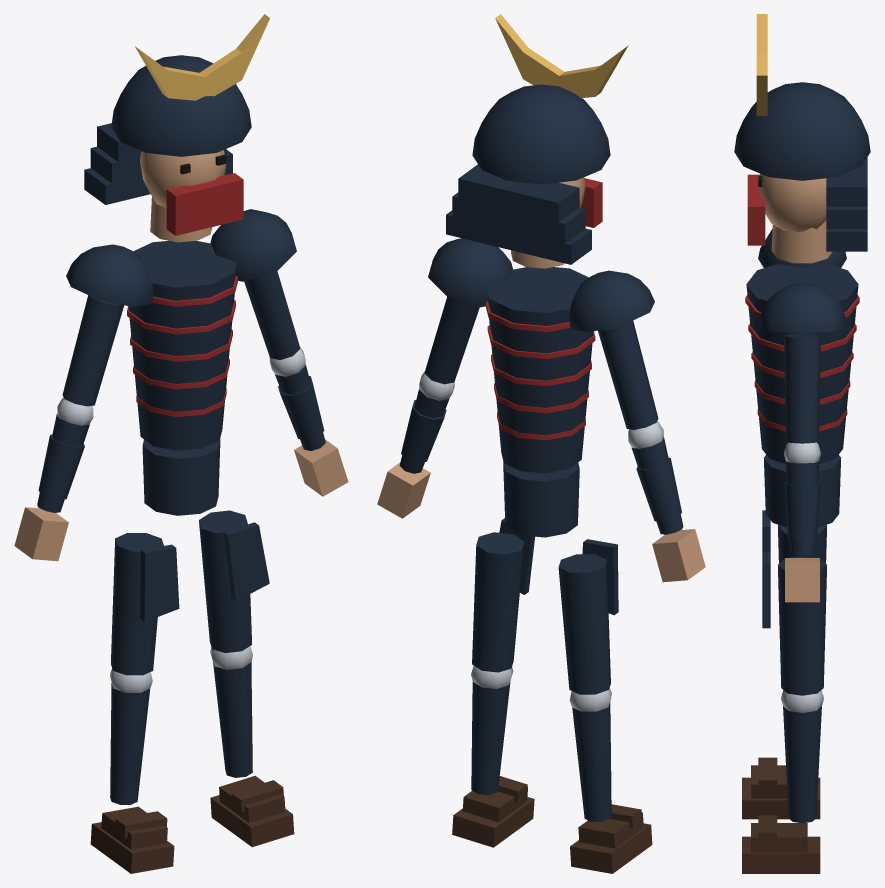
The model's file is samurai-body.glb.
The picture shows the model from 3 angles, left to right: view 1: azimuth 30°, elevation 25°; view 2: azimuth 150°, elevation 25°; view 3: azimuth 270°, elevation 25°; orthographic projection. The views are drawn at different scales.
Visible parts, largest first — view 1: TaperedDo, KabutoBowl, SmallShoulder (×2), HipFlap (×2), Thigh-1, Waist, Thigh1, UpperArm-1, Shin-1, NeckGuard (×3), Mempo, GoldCrest (+19 smaller); view 2: TaperedDo, KabutoBowl, NeckGuard (×3), SmallShoulder (×2), Thigh-1, Thigh1, Waist, UpperArm-1, Shin-1, Shin1, GoldCrest, UpperArm1 (+15 smaller); view 3: KabutoBowl, TaperedDo, Thigh1, SmallShoulder (×2), UpperArm1, Shin1, NeckGuard (×3), Face, Waist, Sandal1, Bracer1, Neck (+14 smaller).
Boxes of the visible parts, bbox=[...] form: TaperedDo: bbox=[128, 240, 236, 450]; KabutoBowl: bbox=[111, 55, 251, 156]; SmallShoulder (×2): bbox=[66, 209, 296, 306]; HipFlap (×2): bbox=[140, 522, 269, 621]; Thigh-1: bbox=[111, 533, 163, 675]; Waist: bbox=[142, 439, 220, 515]; Thigh1: bbox=[199, 510, 251, 652]; UpperArm-1: bbox=[62, 295, 123, 406]; Shin-1: bbox=[110, 683, 150, 804]; NeckGuard (×3): bbox=[84, 123, 232, 204]; Mempo: bbox=[166, 173, 243, 235]; GoldCrest: bbox=[134, 14, 269, 100]; TaperedDo: bbox=[487, 267, 593, 473]; KabutoBowl: bbox=[472, 84, 610, 184]; NeckGuard (×3): bbox=[446, 164, 591, 264]; SmallShoulder (×2): bbox=[428, 238, 654, 331]; Thigh-1: bbox=[558, 554, 610, 694]; Thigh1: bbox=[472, 532, 524, 672]; Waist: bbox=[503, 462, 579, 537]; UpperArm-1: bbox=[598, 320, 658, 429]; Shin-1: bbox=[572, 702, 611, 821]; Shin1: bbox=[471, 681, 510, 795]; GoldCrest: bbox=[495, 14, 628, 97]; UpperArm1: bbox=[424, 297, 479, 384]; KabutoBowl: bbox=[734, 82, 870, 180]; TaperedDo: bbox=[746, 264, 858, 463]; Thigh1: bbox=[778, 556, 826, 695]; SmallShoulder (×2): bbox=[758, 229, 846, 333]; UpperArm1: bbox=[784, 333, 820, 443]; Shin1: bbox=[783, 706, 821, 823]; NeckGuard (×3): bbox=[826, 157, 867, 251]; Face: bbox=[759, 173, 826, 232]; Waist: bbox=[764, 455, 840, 526]; Sandal1: bbox=[742, 836, 820, 873]; Bracer1: bbox=[784, 482, 820, 541]; Neck: bbox=[771, 220, 832, 263].
Size of the model in its own units: 0.9158 by 2.26 by 0.3526.
